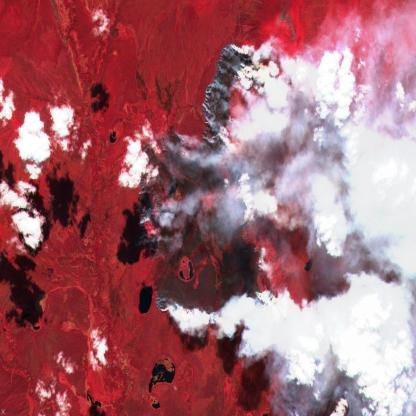fire: (119, 36, 285, 346)
